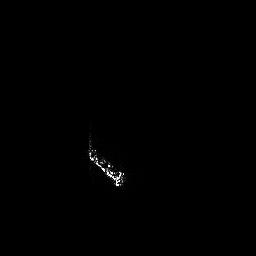ship: (86, 138, 126, 189)
